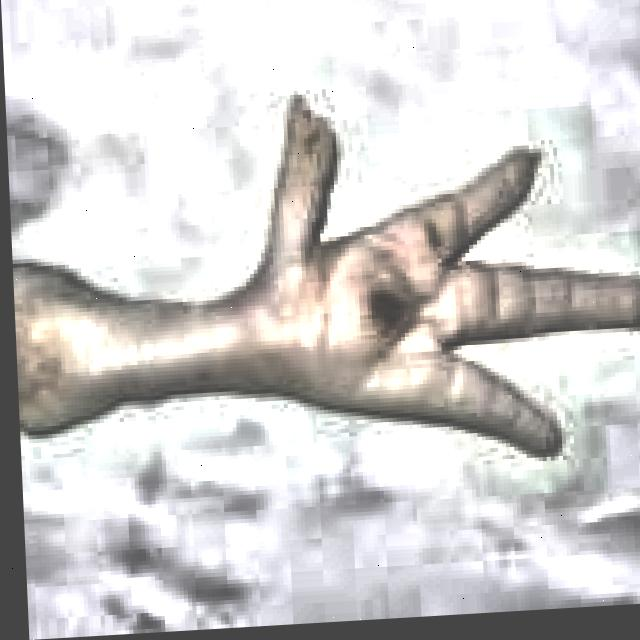Bumble foot: (339, 270, 417, 356)
